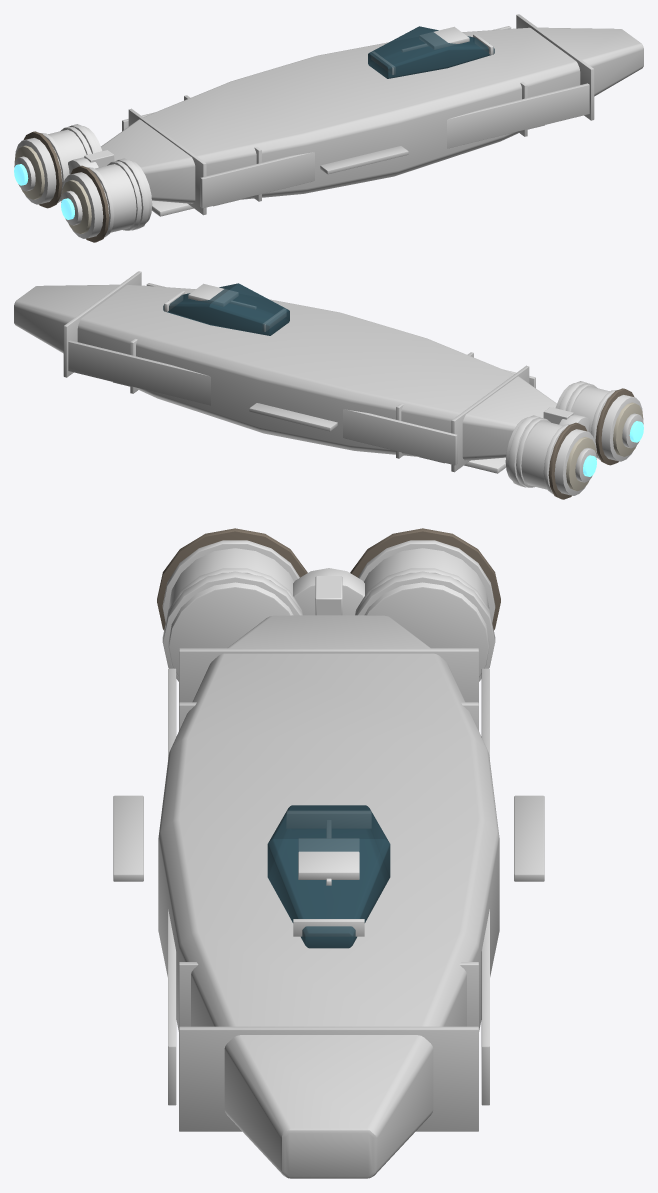
Rendered from ashline_rig_production_v1_lod2.glb.
The picture shows the model from 3 angles, top to bottom: view 1: azimuth 30°, elevation 25°; view 2: azimuth 150°, elevation 25°; view 3: azimuth 270°, elevation 25°; orthographic projection. The views are drawn at different scales.
Parts seen in each view (by area): view 1: LOD2_Hull, LOD2_Mechanical, LOD2_Canopy, LOD2_Armor, LOD2_Ceramic, LOD2_Radiator, LOD2_Thruster; view 2: LOD2_Hull, LOD2_Mechanical, LOD2_Canopy, LOD2_Armor, LOD2_Ceramic, LOD2_Radiator, LOD2_Thruster; view 3: LOD2_Hull, LOD2_Mechanical, LOD2_Armor, LOD2_Canopy, LOD2_Radiator.
Part boxes in pixels (x1,y1,x2,y2): LOD2_Hull: (101, 14, 643, 215); LOD2_Mechanical: (14, 126, 193, 238); LOD2_Canopy: (368, 26, 494, 78); LOD2_Armor: (40, 26, 493, 237); LOD2_Ceramic: (14, 145, 91, 234); LOD2_Radiator: (23, 131, 109, 242); LOD2_Thruster: (14, 164, 74, 219); LOD2_Hull: (14, 271, 556, 472); LOD2_Mechanical: (464, 383, 643, 495); LOD2_Canopy: (163, 283, 289, 335); LOD2_Armor: (164, 283, 617, 494); LOD2_Ceramic: (566, 402, 643, 491); LOD2_Radiator: (548, 388, 634, 499); LOD2_Thruster: (583, 421, 643, 476); LOD2_Hull: (113, 615, 544, 1178); LOD2_Mechanical: (168, 548, 489, 677); LOD2_Armor: (162, 540, 495, 936); LOD2_Canopy: (267, 805, 390, 948); LOD2_Radiator: (157, 528, 500, 630).
Size of what is drawn, in the model's own units: 15.98 by 2.65 by 5.06.
